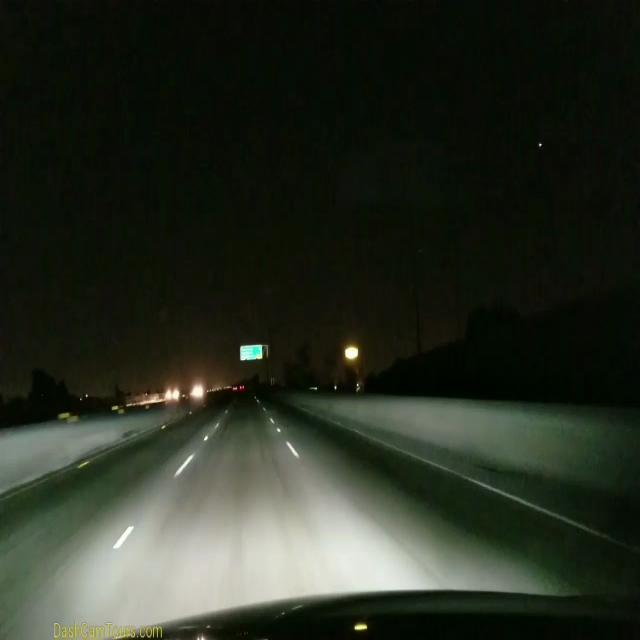street-signs: (240, 344, 263, 361)
